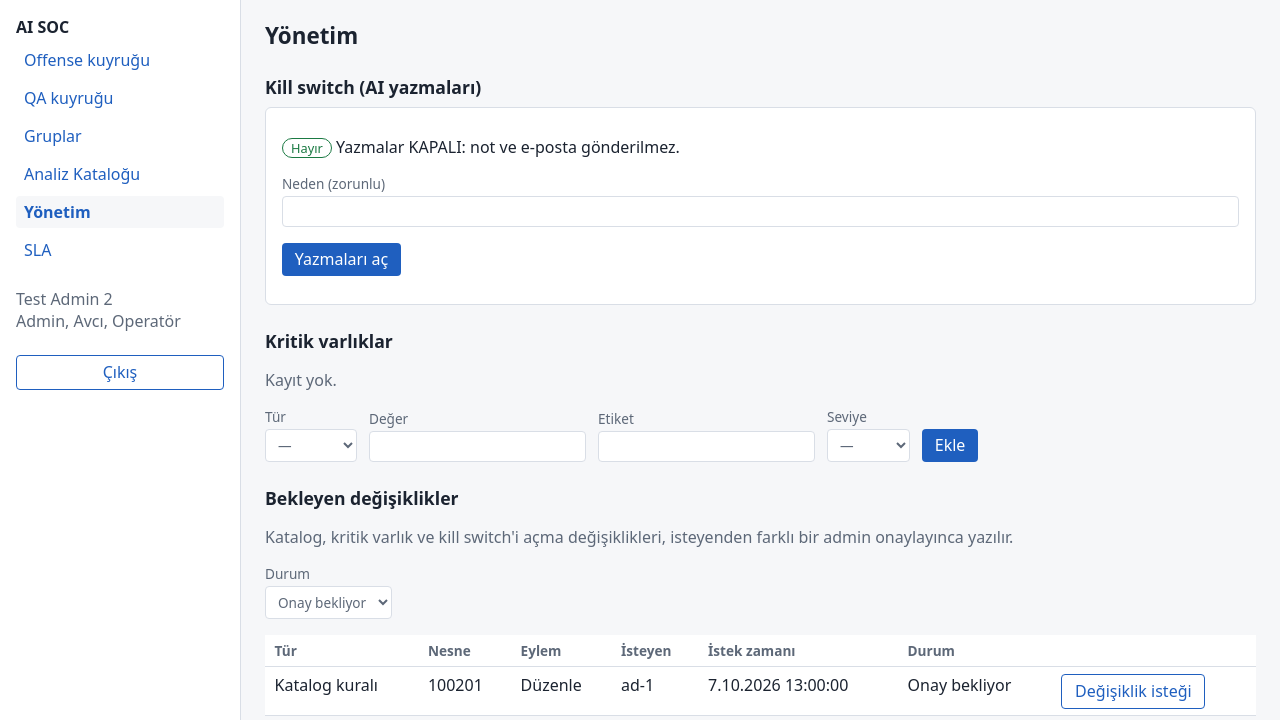
Test: pending changes (T-033 criterion 5) › lists the requests and shows the values before and after side by side
Expected: the heading "Bekleyen değişiklikler" is shown, [265,486,458,510]
Expected: the text "100201" is shown, [418,667,511,716]
Click the button "Değişiklik isteği". click: (1133, 691)
box: [1061,674,1205,709]
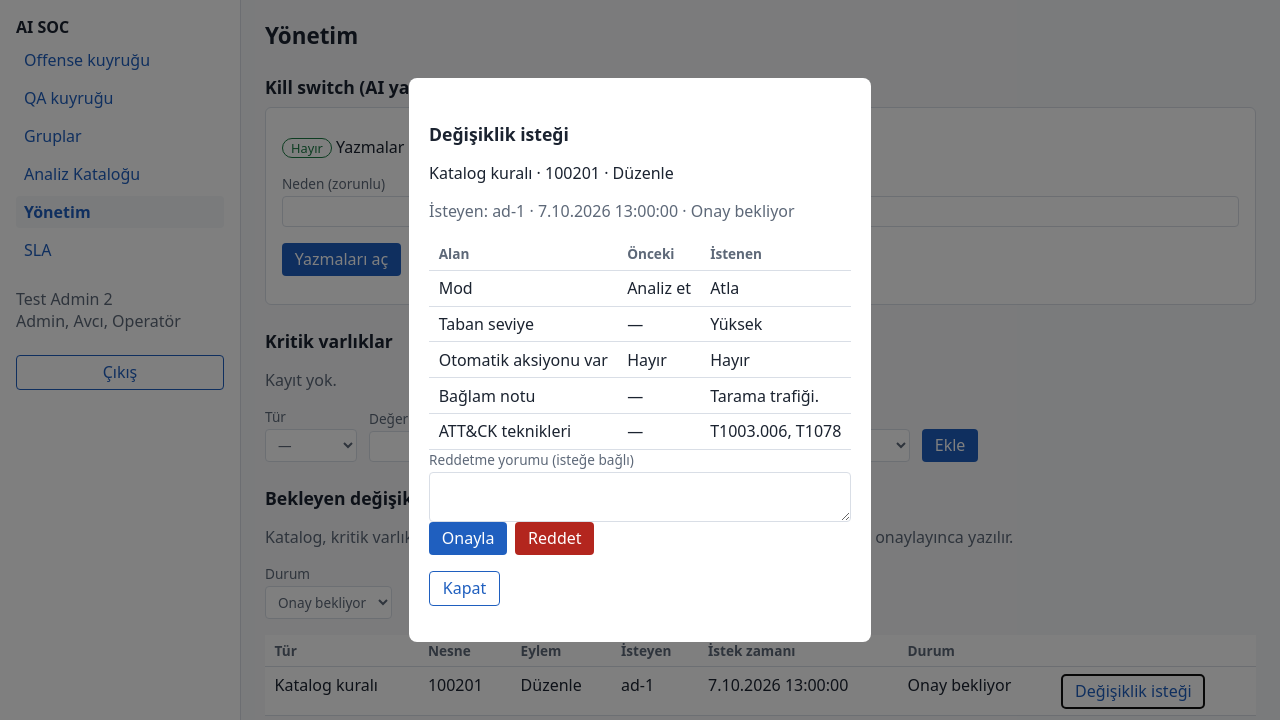
Result: the cells read "Taban seviye", "—", "Yüksek", in this order at [429,306,618,342]; [618,306,700,342]; [700,306,851,342]
Result: the cells read "Mod", "Analiz et", "Atla", in this order at [429,270,618,306]; [618,270,700,306]; [700,270,851,306]
Result: the text "T1003.006, T1078" is shown at [700,414,851,449]
